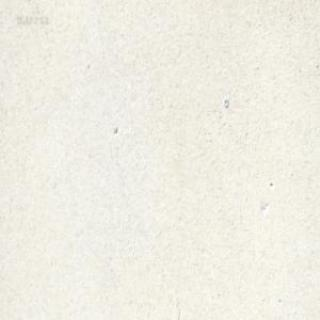Washertrack_idkeyframe: (222, 96, 228, 107)
